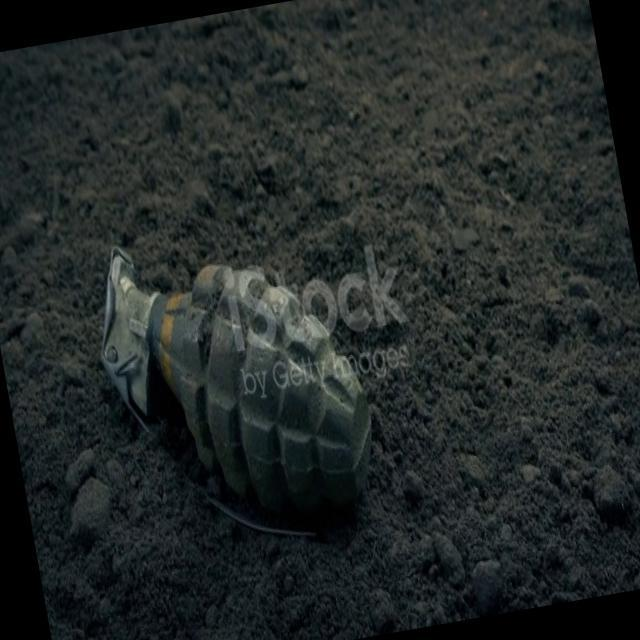grenade: (78, 206, 396, 581)
